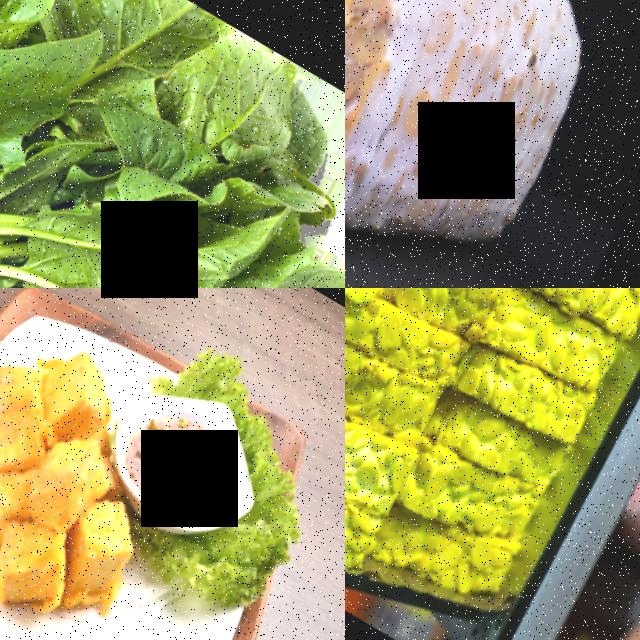spinach: (163, 9, 322, 176), (30, 184, 150, 288), (78, 0, 209, 72), (0, 0, 73, 54)
tempeh: (345, 0, 630, 288)
tofu: (40, 479, 152, 617), (12, 414, 118, 539), (0, 507, 80, 619), (41, 339, 128, 436), (0, 344, 35, 451), (0, 461, 28, 547)
